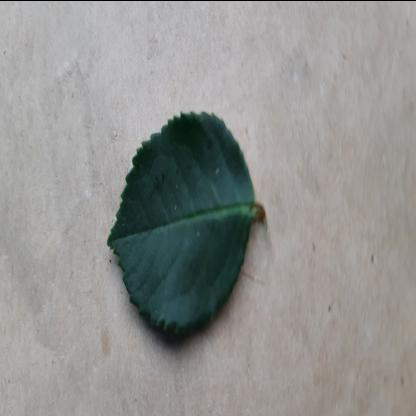normal: (106, 104, 258, 345)
